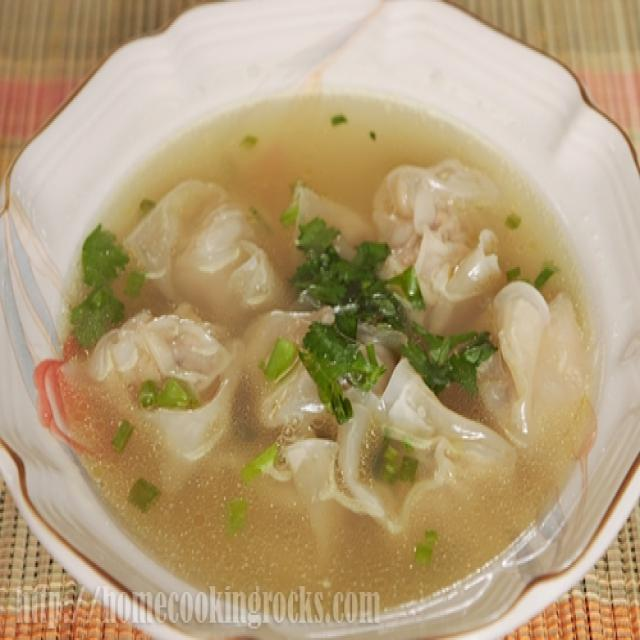汤锅炖物: (29, 52, 610, 613)
